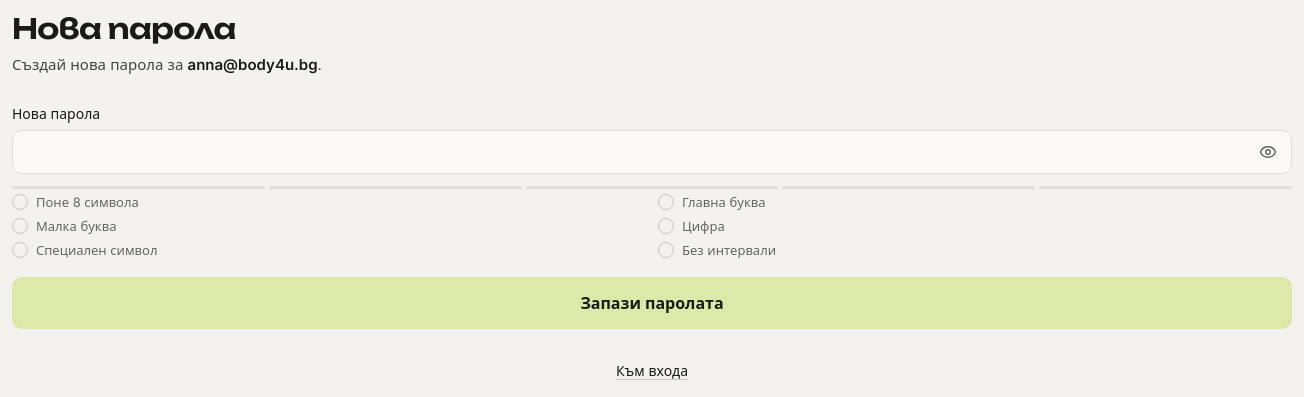
ResetPasswordPage › sends email + token from the URL and shows the success state (204)
Expected: the form holds "anna@body4u.bg", [12,104,1292,329]
Type "NovaParola1!" into the password field labelled "Нова парола" at (652,152), box [12,130,1292,174]
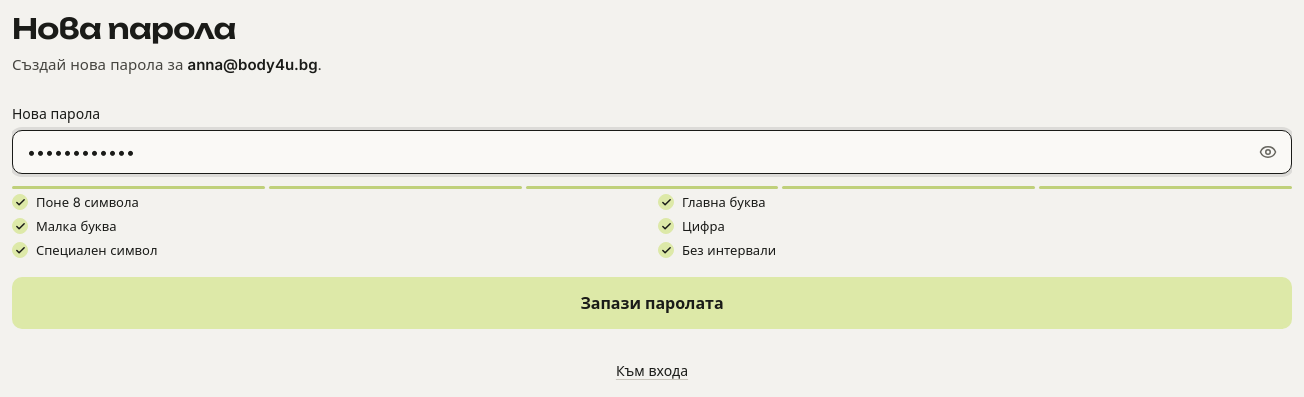
Click the button "Запази паролата" at (652,303), box [12,277,1292,329]
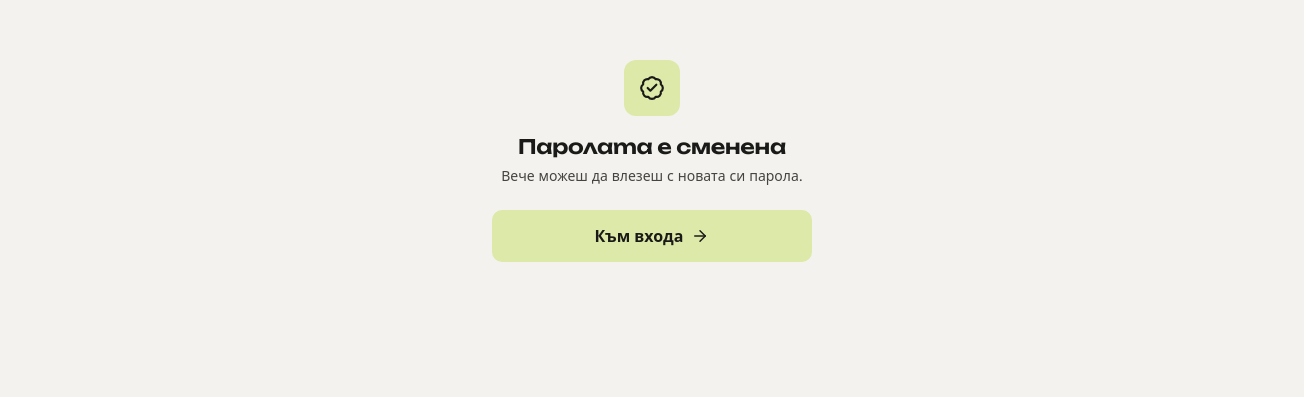
Expected: the heading "Паролата е сменена" is shown, [518,134,786,160]
